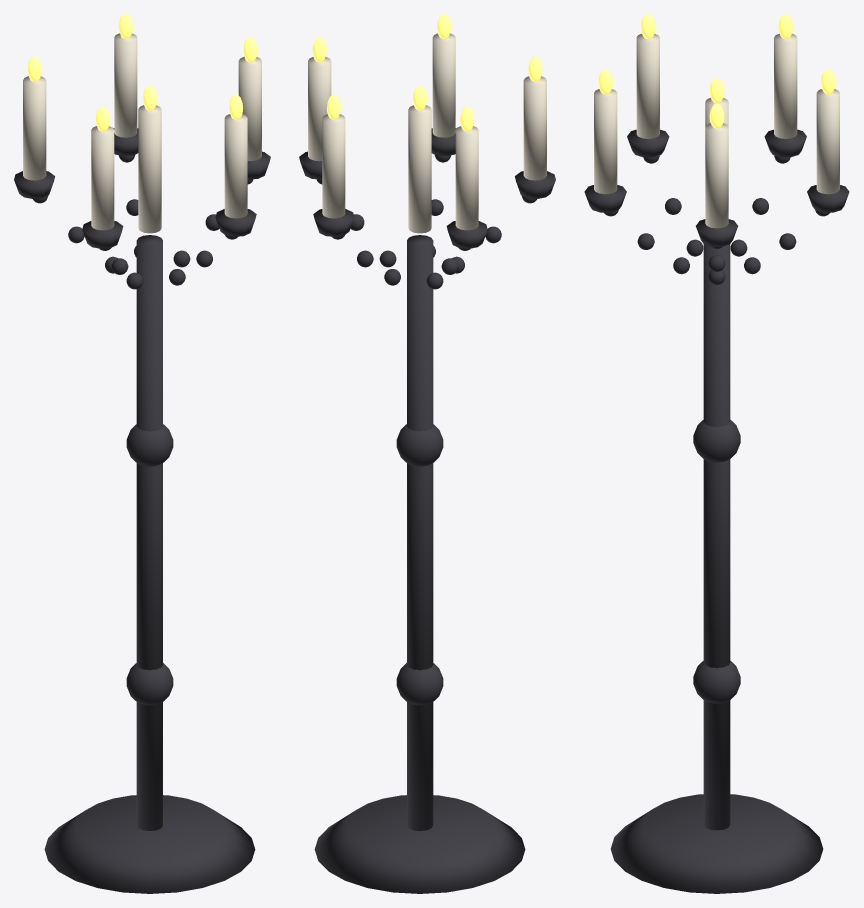
Rendered from candelabra.glb.
3 renders of one model, left to right at view 1: azimuth 30°, elevation 25°; view 2: azimuth 150°, elevation 25°; view 3: azimuth 270°, elevation 25°, orthographic.
Visible parts, largest first — view 1: GD_candelabra; view 2: GD_candelabra; view 3: GD_candelabra.
Boxes of the visible parts, x1,y1,x2,y2 form: GD_candelabra: (14,14,270,893); GD_candelabra: (299,14,555,893); GD_candelabra: (584,14,849,893).
Bounding box in the file's own units: 0.4741 × 1.65 × 0.4985.
